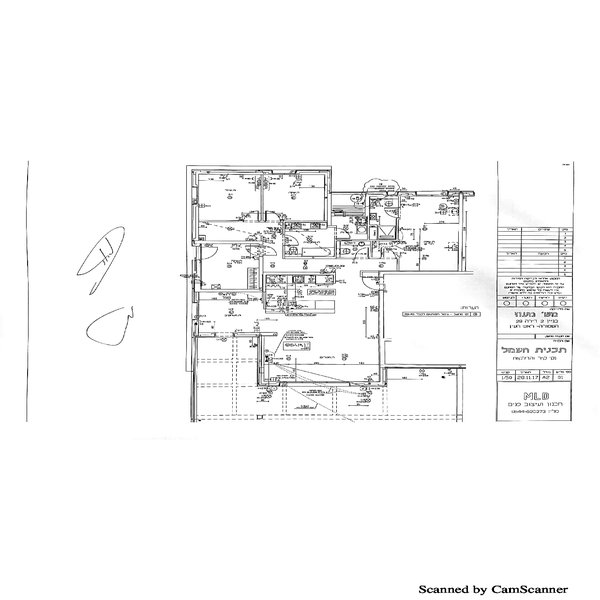door: (193, 237, 218, 265), (253, 239, 279, 260), (357, 270, 379, 291), (351, 244, 376, 261), (243, 204, 263, 225), (261, 207, 282, 225)
room: (256, 268, 391, 384), (186, 154, 333, 227), (365, 188, 472, 274)
